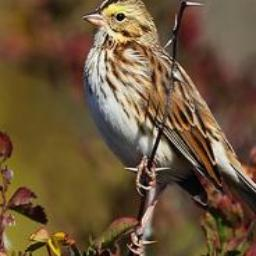Sparrow: (82, 0, 256, 227)
